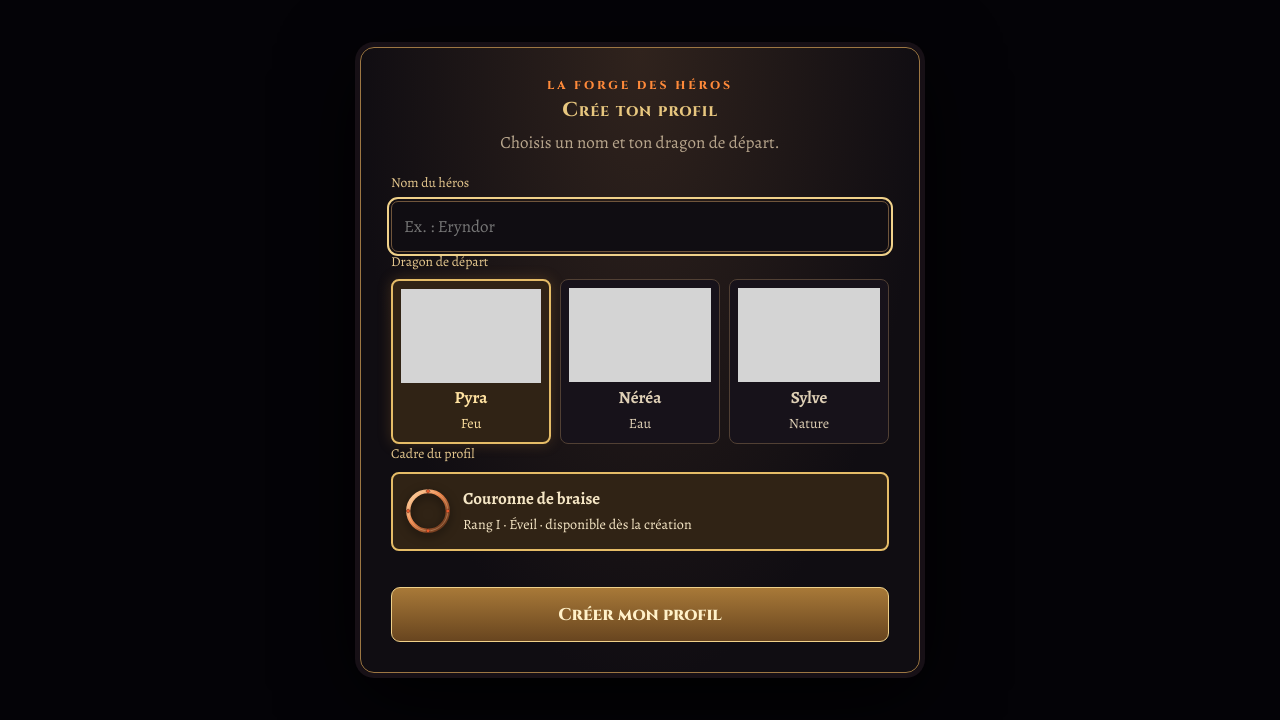
Test: ProfileGate › refuse un nom interdit et l’explique
Type "admin" into the field labelled "Nom du héros" at (640, 226), box [391,200,889,252]
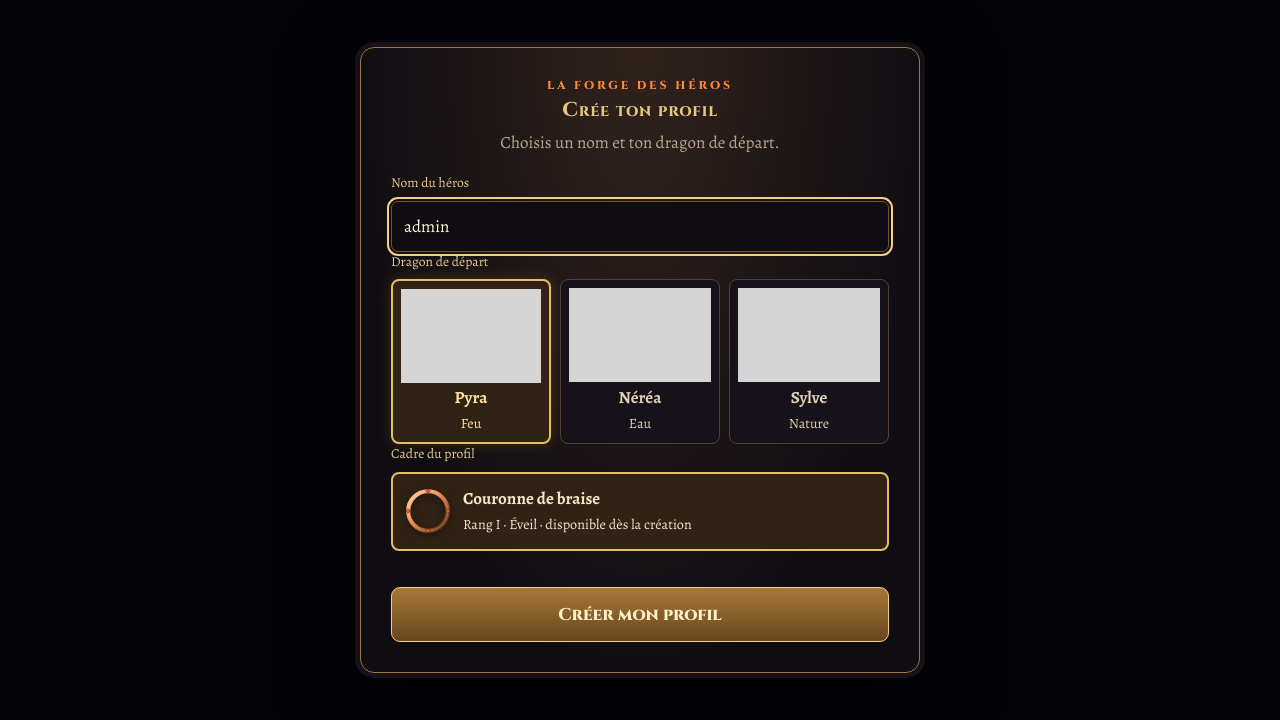
Click the button "Créer mon profil" at (640, 615), box [391,587,889,642]
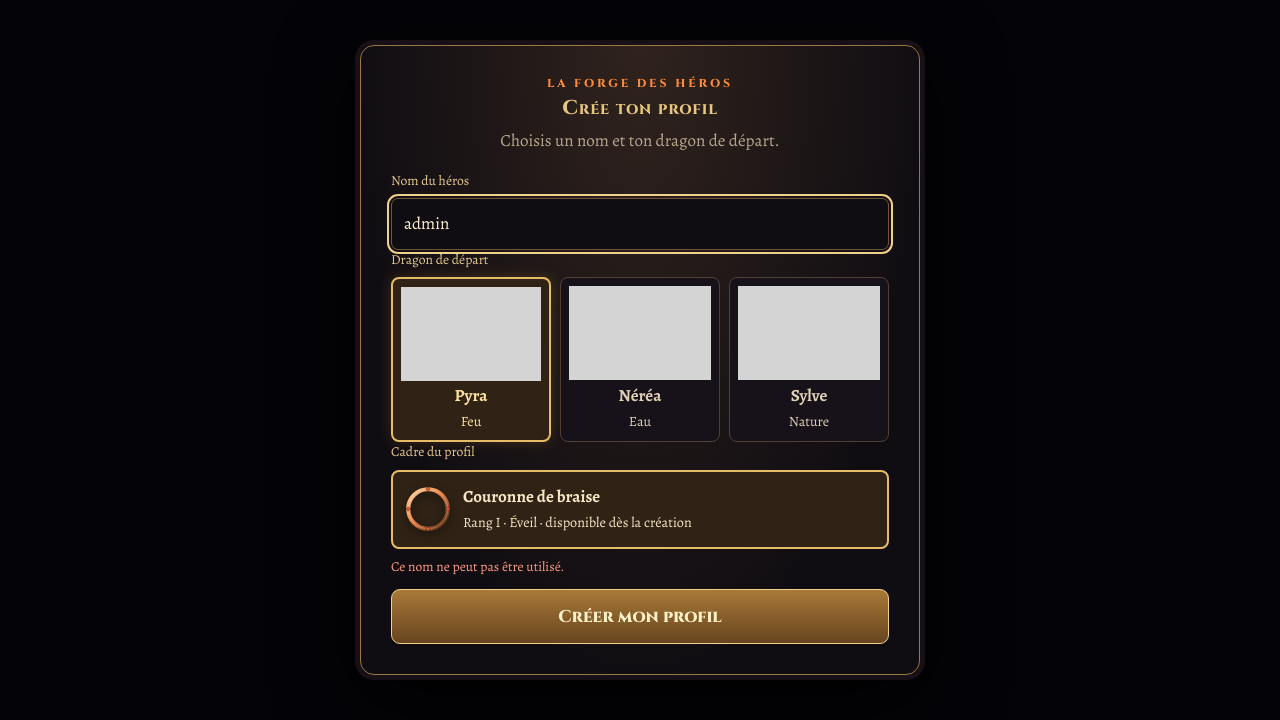
Expected: the text "Ce nom ne peut pas être utilisé." is shown, [391,556,564,576]
